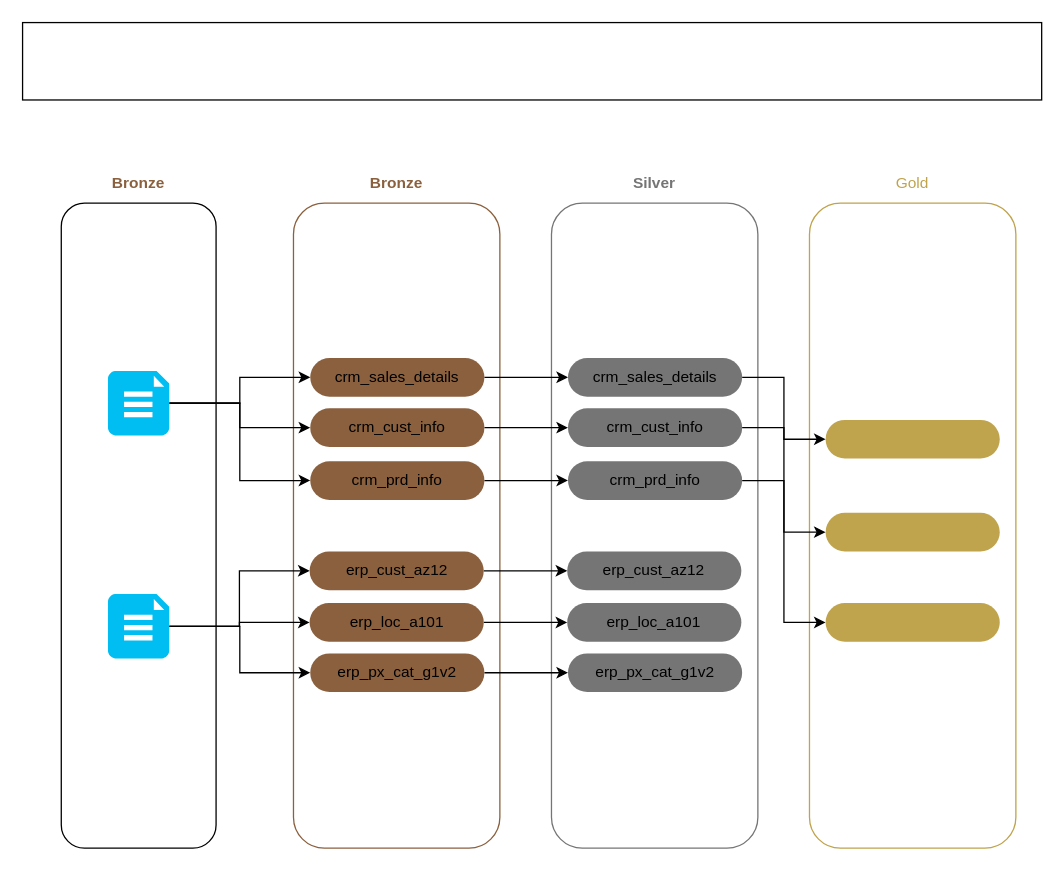
This 1064x871 diagram has some shape labels left out. Each missing label, with the centre of its shape:
CRM: [138,625]
Data Flow: [531,60]
dim_customers: [912,531]
dim_product: [912,621]
ERP: [138,402]
fact_sales: [912,438]
